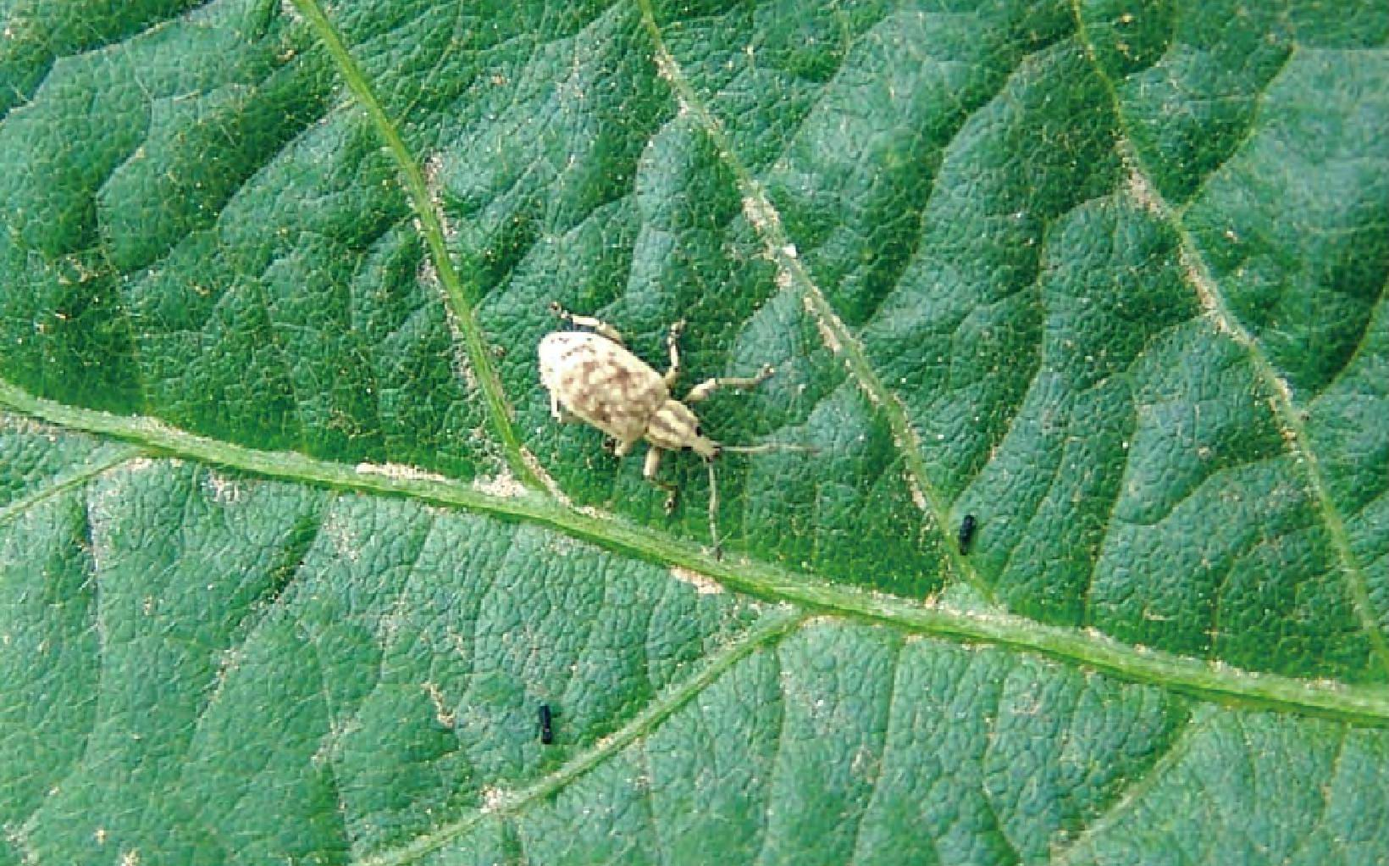Curculionidae: (535, 300, 823, 564)
